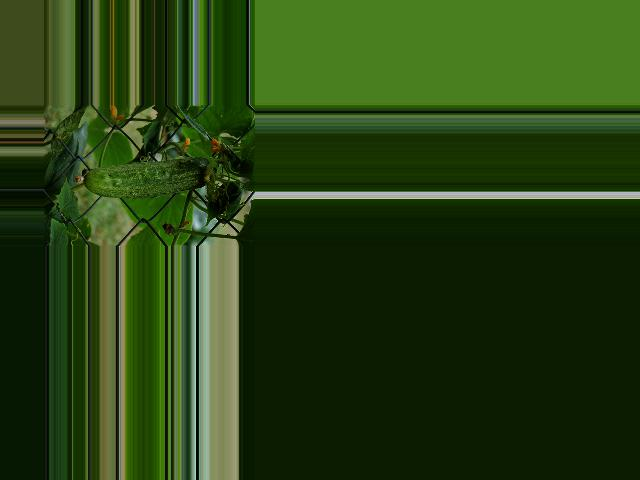cucumber: (75, 158, 215, 198)
